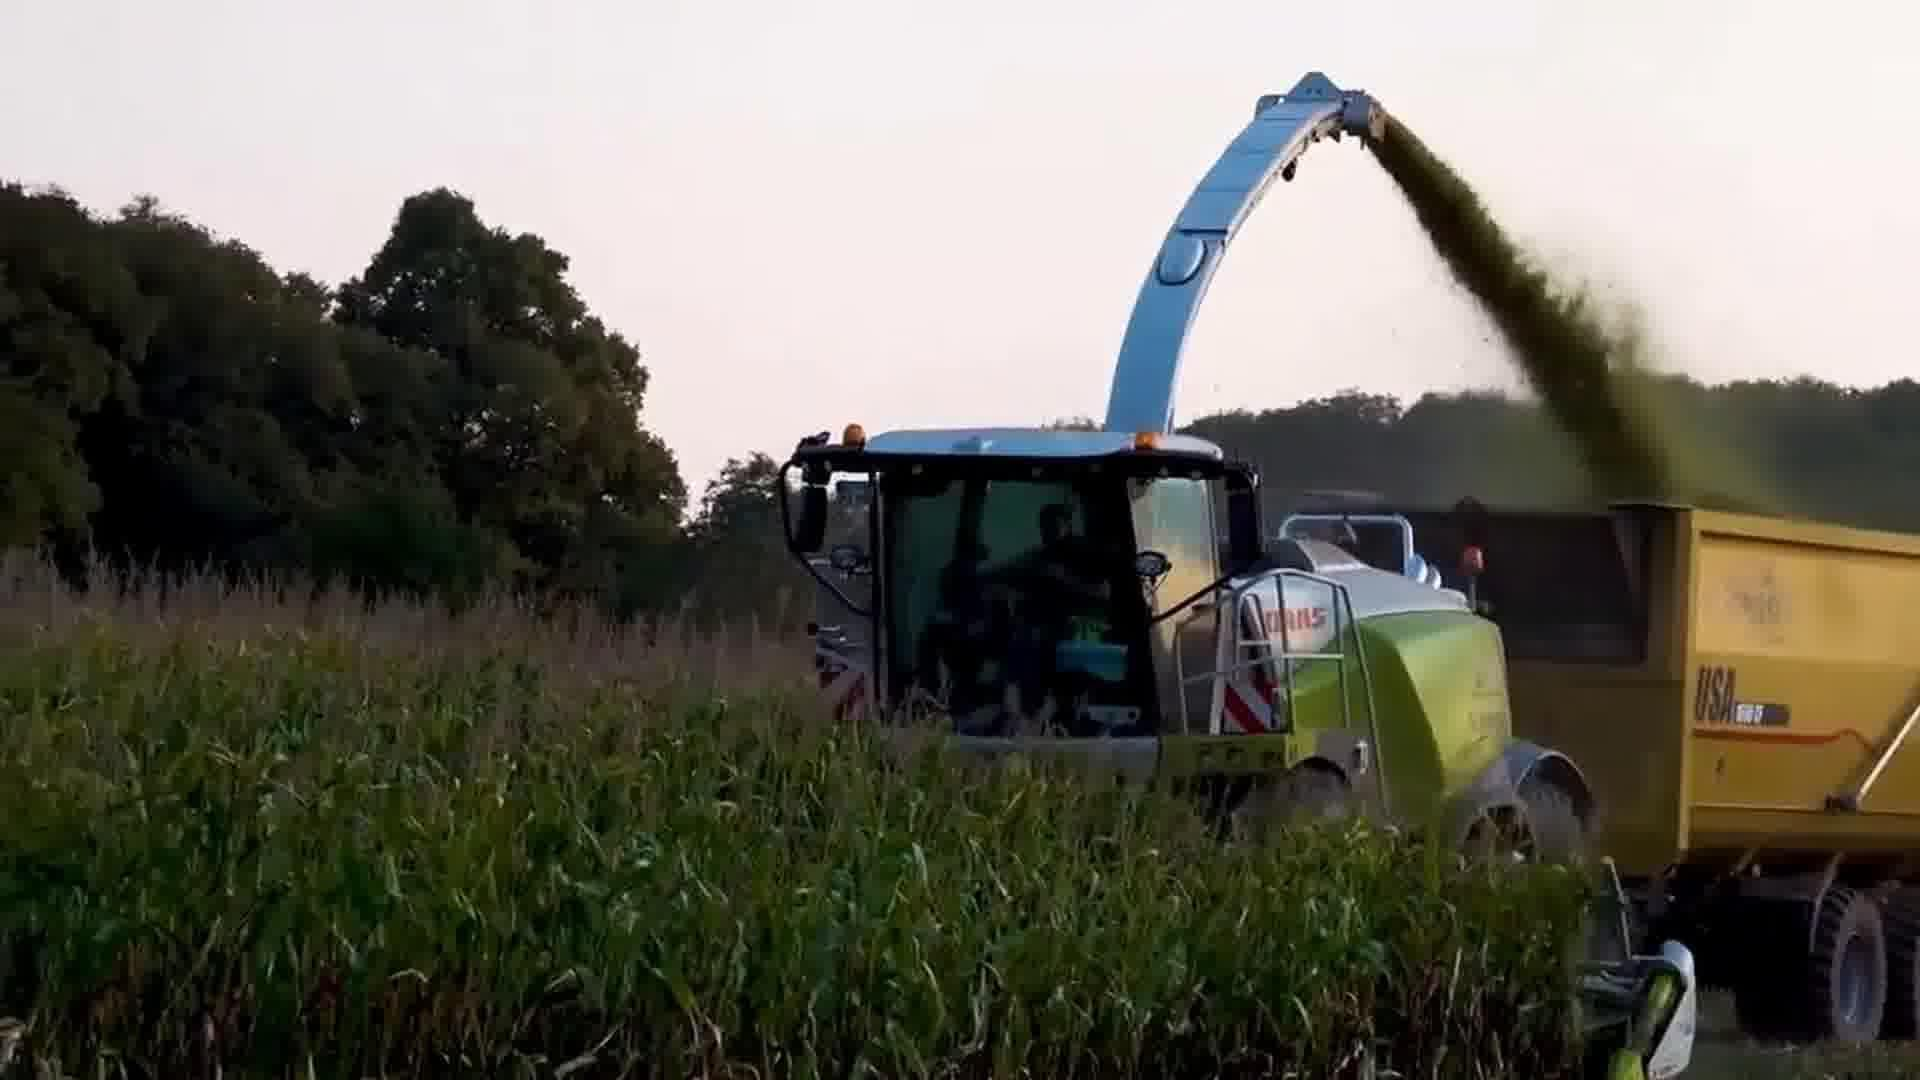combine harvester: (767, 65, 1709, 1080)
trailer: (1283, 483, 1920, 1058)
